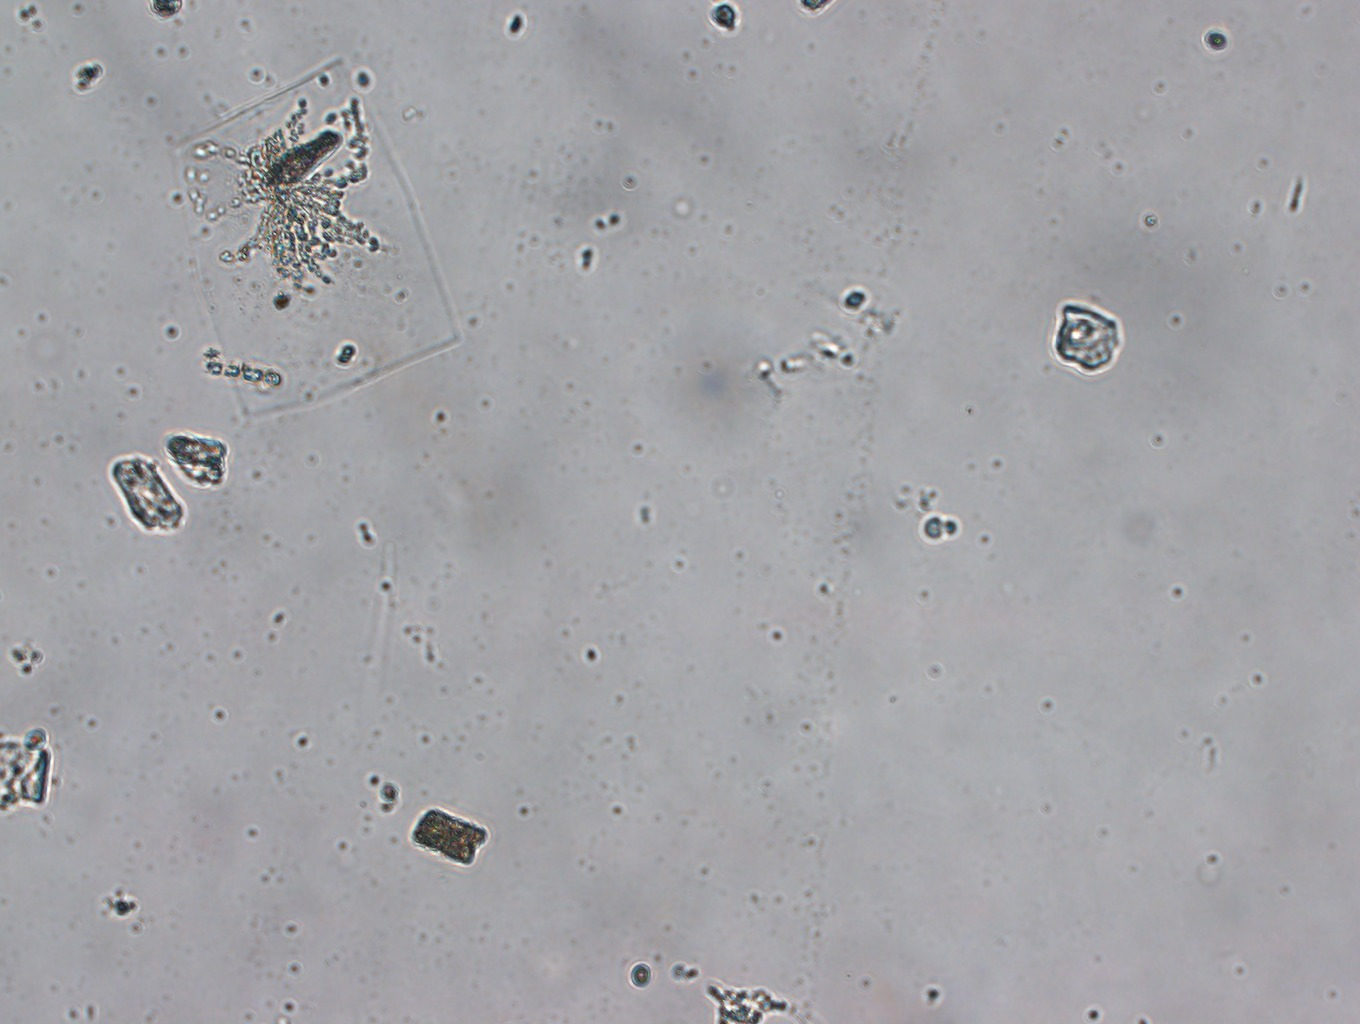helicotheca: (168, 58, 461, 423)
